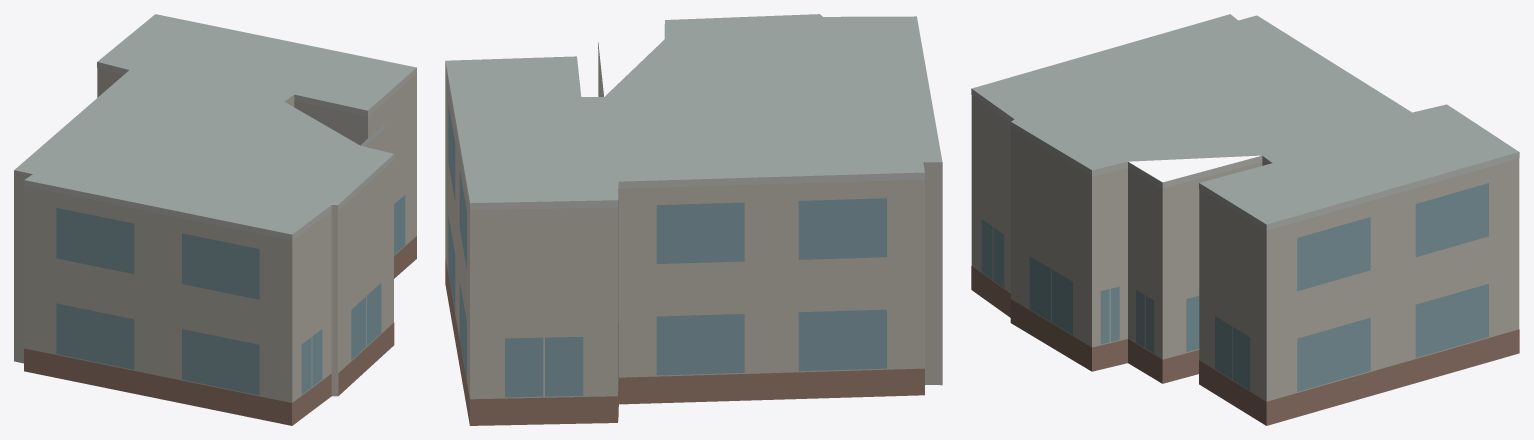
Rendered from survey-upis-32625336.glb.
The picture shows the model from 3 angles, left to right: view 1: azimuth 30°, elevation 25°; view 2: azimuth 150°, elevation 25°; view 3: azimuth 270°, elevation 25°; orthographic projection. The views are drawn at different scales.
Parts seen in each view (by area): view 1: survey-upis-32625336.tmp; view 2: survey-upis-32625336.tmp; view 3: survey-upis-32625336.tmp.
Boxes of the visible parts, box(x1,y1,x2,y2) form: survey-upis-32625336.tmp: box(14, 14, 416, 425); survey-upis-32625336.tmp: box(445, 14, 942, 425); survey-upis-32625336.tmp: box(971, 14, 1519, 425).
Bounding box in the file's own units: 17.5 × 7.8 × 19.25.
